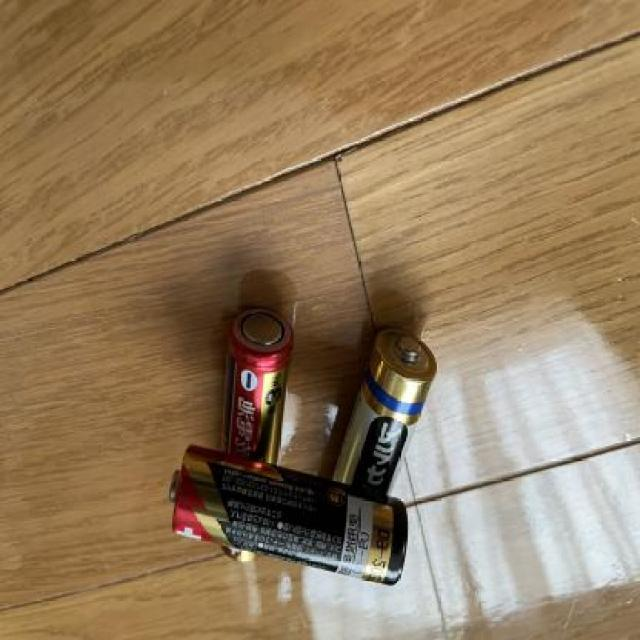hazardous waste: (163, 436, 412, 590), (208, 306, 300, 565), (318, 328, 444, 500)
